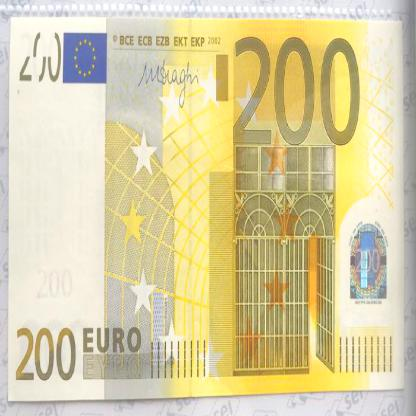euro_banknote: (10, 18, 406, 403)
